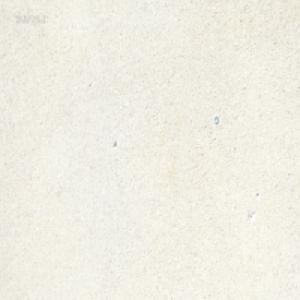Washer: (213, 114, 219, 125)
